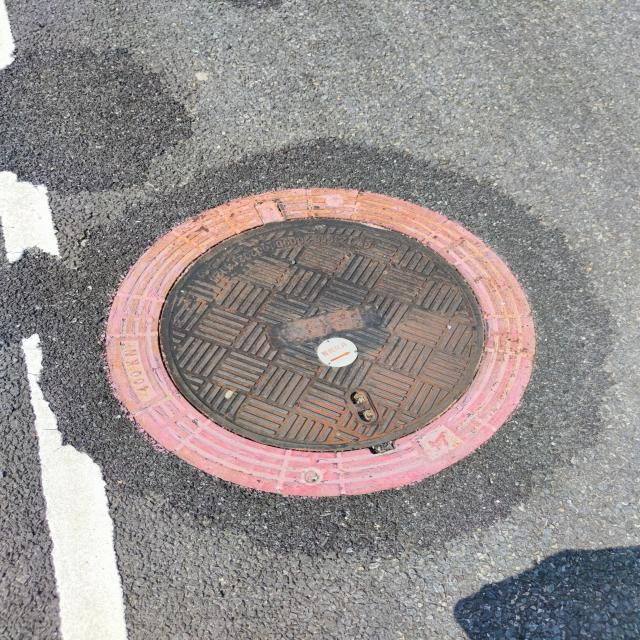Good: (100, 181, 546, 505)
